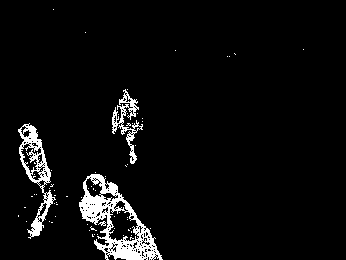person: (99, 179, 163, 260), (15, 124, 55, 238), (78, 173, 114, 259), (109, 87, 144, 164)
